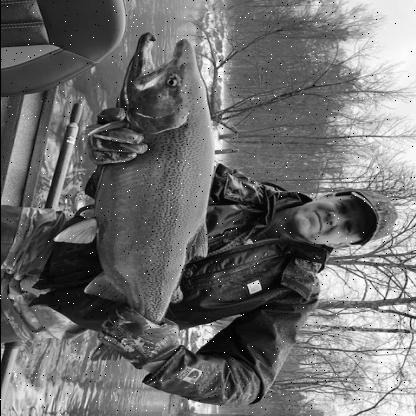fish: (54, 32, 218, 362)
